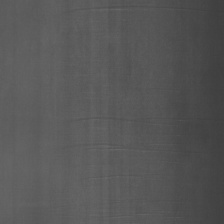waist_folding: (32, 28, 176, 213)
